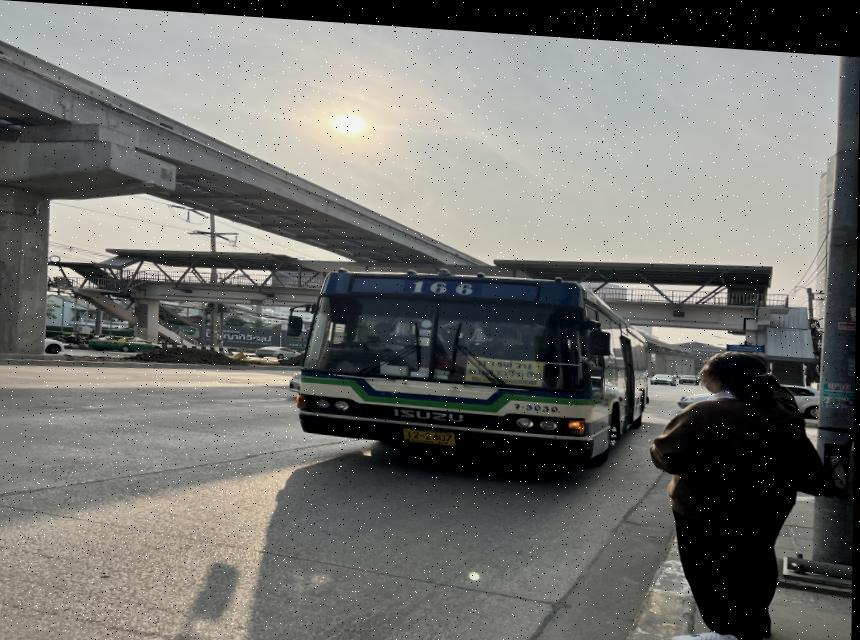BMTA-bus: (295, 266, 645, 456)
Bus Line Number: (409, 272, 481, 292)
Bus Side Number: (512, 395, 564, 406)
Destination Sign: (467, 350, 544, 379)
